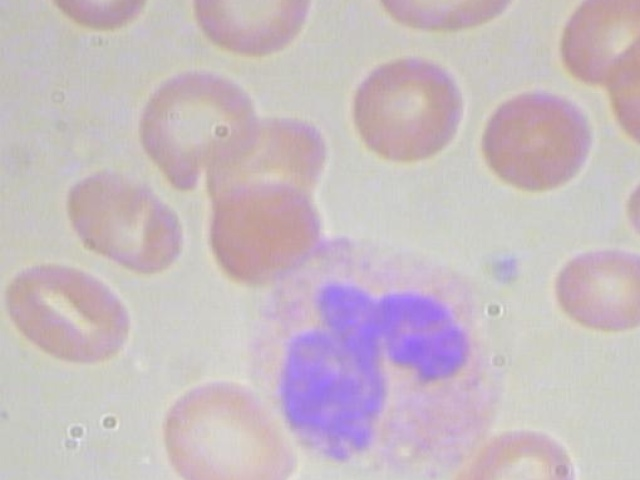RBC: (125, 61, 268, 197), (157, 362, 302, 480), (470, 82, 599, 204), (202, 169, 331, 291), (340, 47, 469, 168), (0, 262, 129, 373), (61, 165, 187, 275), (546, 239, 640, 335), (547, 0, 640, 92), (184, 0, 319, 61), (371, 0, 531, 36), (595, 27, 640, 149), (34, 0, 160, 36), (618, 152, 640, 248)
WBC: (241, 231, 533, 480)
